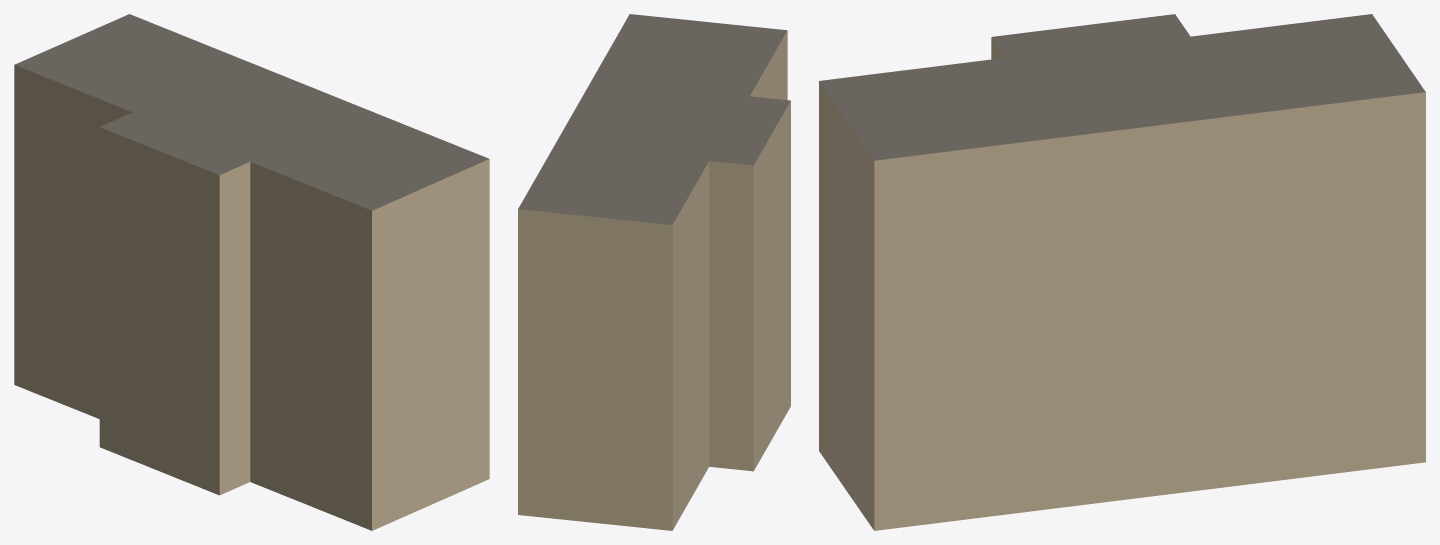
3 views of the same model, side by side, from view 1: azimuth 30°, elevation 25°; view 2: azimuth 150°, elevation 25°; view 3: azimuth 270°, elevation 25° (orthographic). The views are drawn at different scales.
Parts seen in each view (by area): view 1: HP-w1385510827; view 2: HP-w1385510827; view 3: HP-w1385510827.
Boxes of the visible parts, x1,y1,x2,y2 form: HP-w1385510827: (14,14,489,530); HP-w1385510827: (518,14,790,530); HP-w1385510827: (819,14,1425,530).
Bounding box in the file's own units: 16.83 × 19.8 × 29.4.
